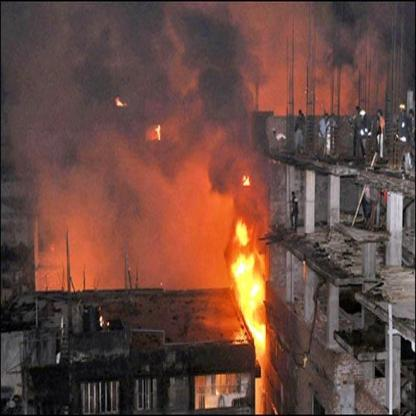fire: (224, 210, 269, 356), (112, 92, 131, 112), (239, 165, 252, 189), (154, 120, 164, 143)
